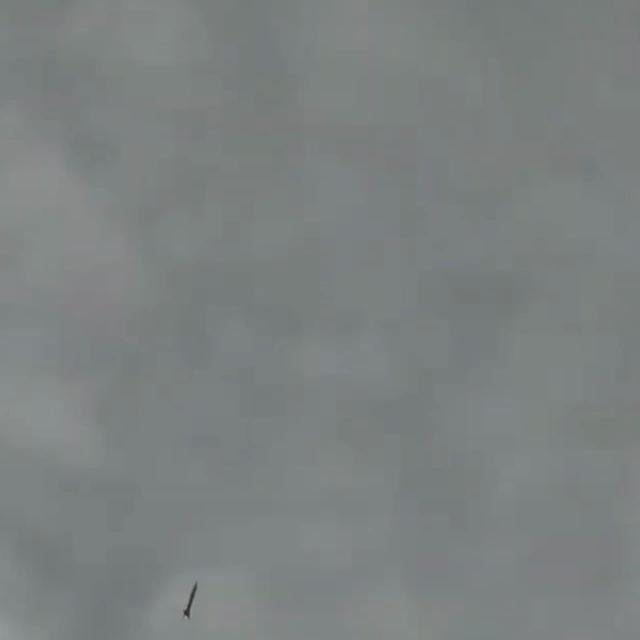rocket: (181, 583, 198, 619)
